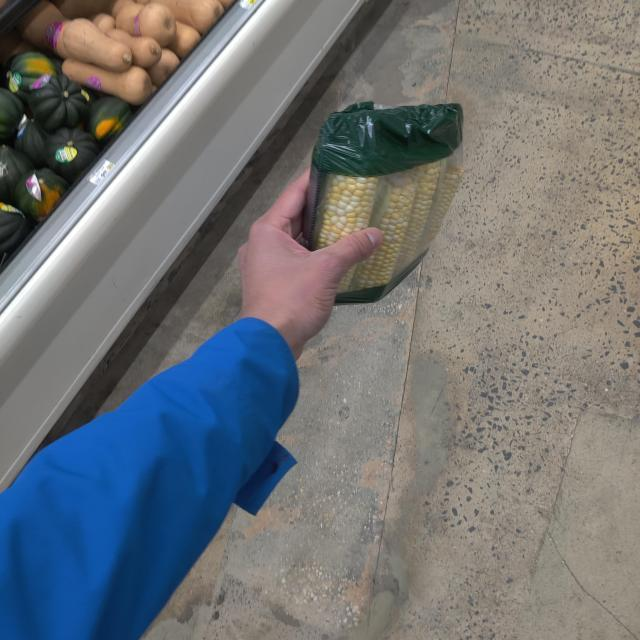Corn: (306, 96, 463, 298)
